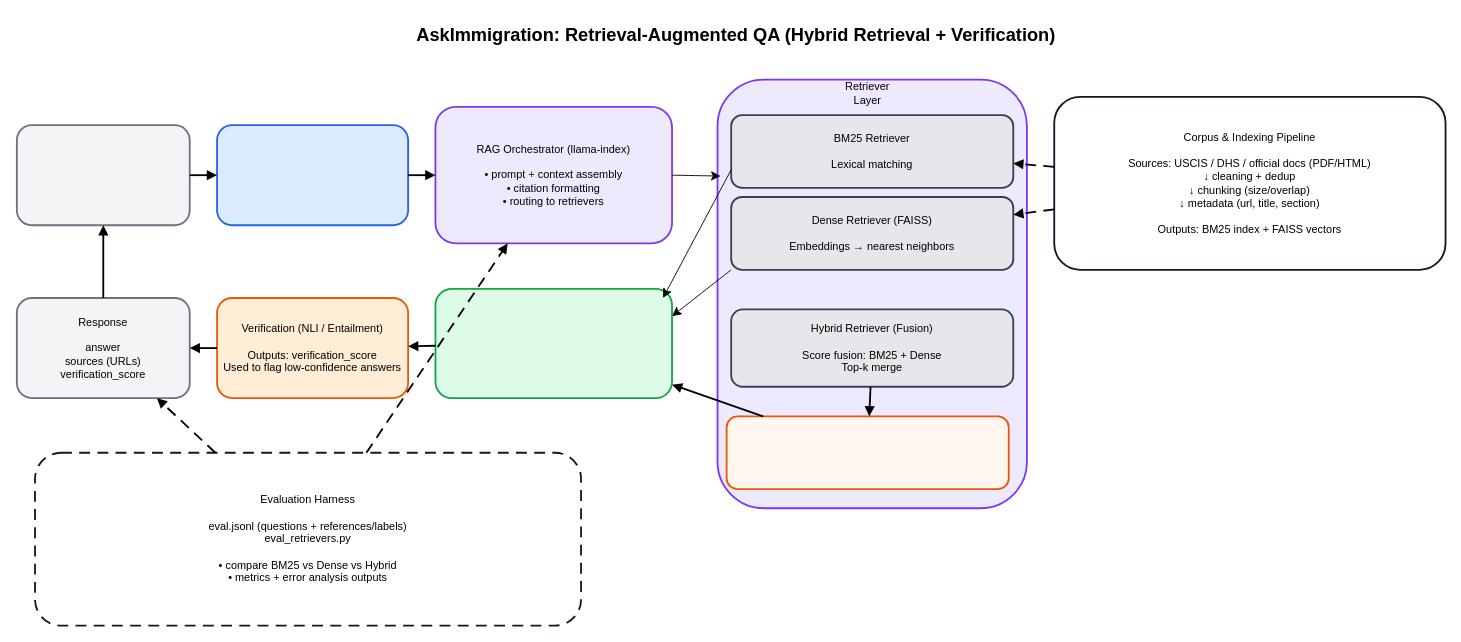
Image size: 1461x642. Some labels were removed from this diagram. Each missing label, with the centre of its shape:
"FastAPI Server (Uvicorn) GET / POST /ask" belongs at point (312, 175).
"Gemini API (LLM) Grounded answer generation (uses retrieved contexts)" belongs at point (553, 343).
"Reranker / Filter • cross-encoder • remove duplicates / low-quality chunks" belongs at point (867, 452).
"User / Browser UI (Local FastAPI page) Enters question" belongs at point (102, 175).
